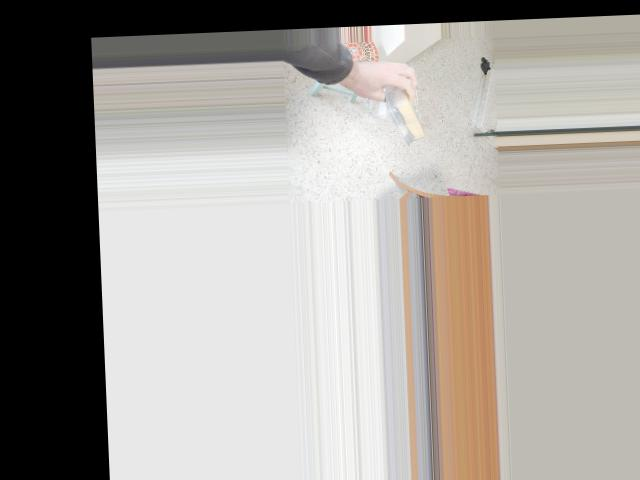cheese: (376, 71, 430, 150)
